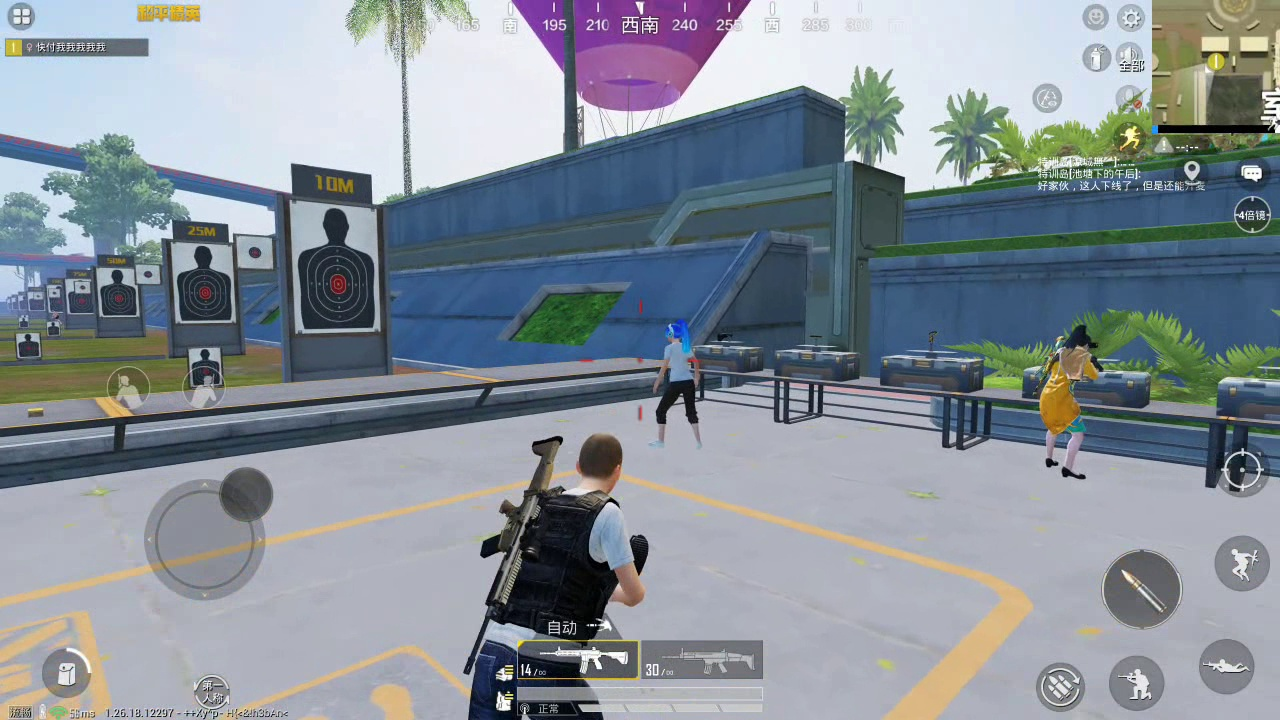enemy: (1038, 325, 1099, 479), (652, 321, 703, 449)
